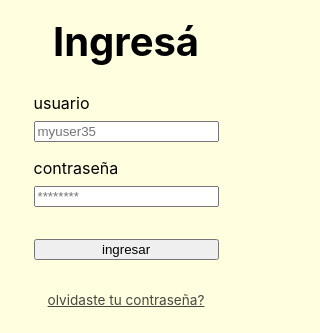
Test: Login Form › user input can't be only numbers. show error and helper text
Type "455" into the field named "usuario" at (126, 131), box [34,121,218,142]
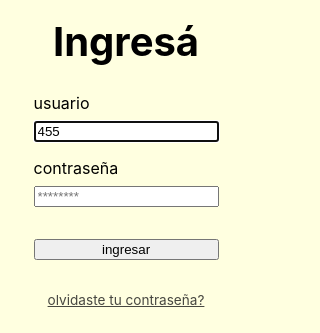
Type "Pass1234$" into the password field named "contraseña" at (126, 196), box [34,186,218,207]
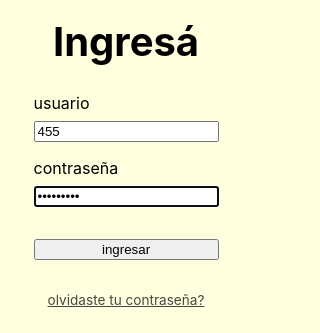
Click the button "ingresar" at (126, 249), box [34,239,218,260]
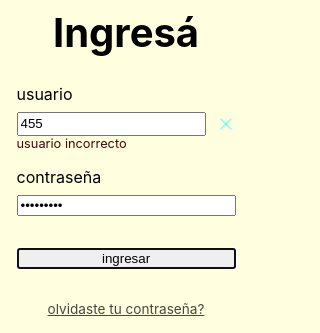
Result: the text "usuario incorrecto" is shown at [16,136,127,151]
Result: the icon with test id "error-icon" is shown at [206,112,236,136]
